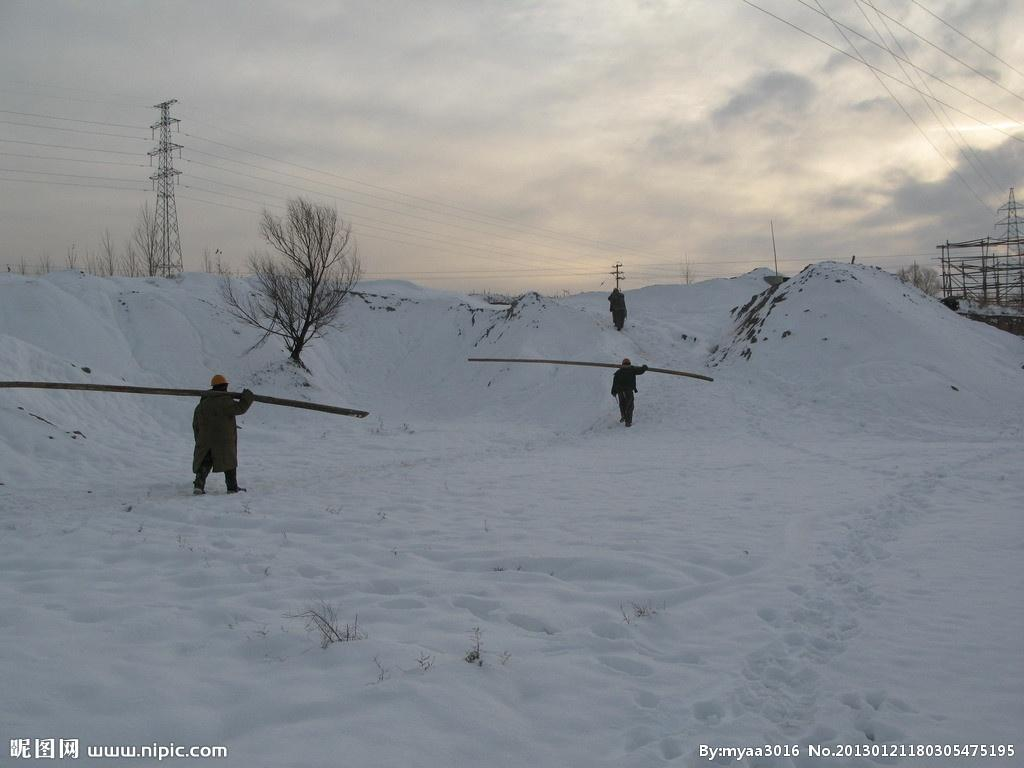Helmet: (212, 373, 231, 393)
